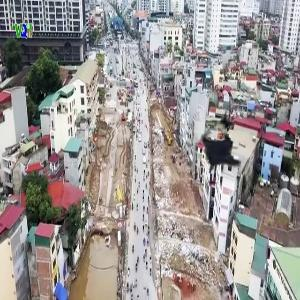drone: (179, 107, 280, 208)
